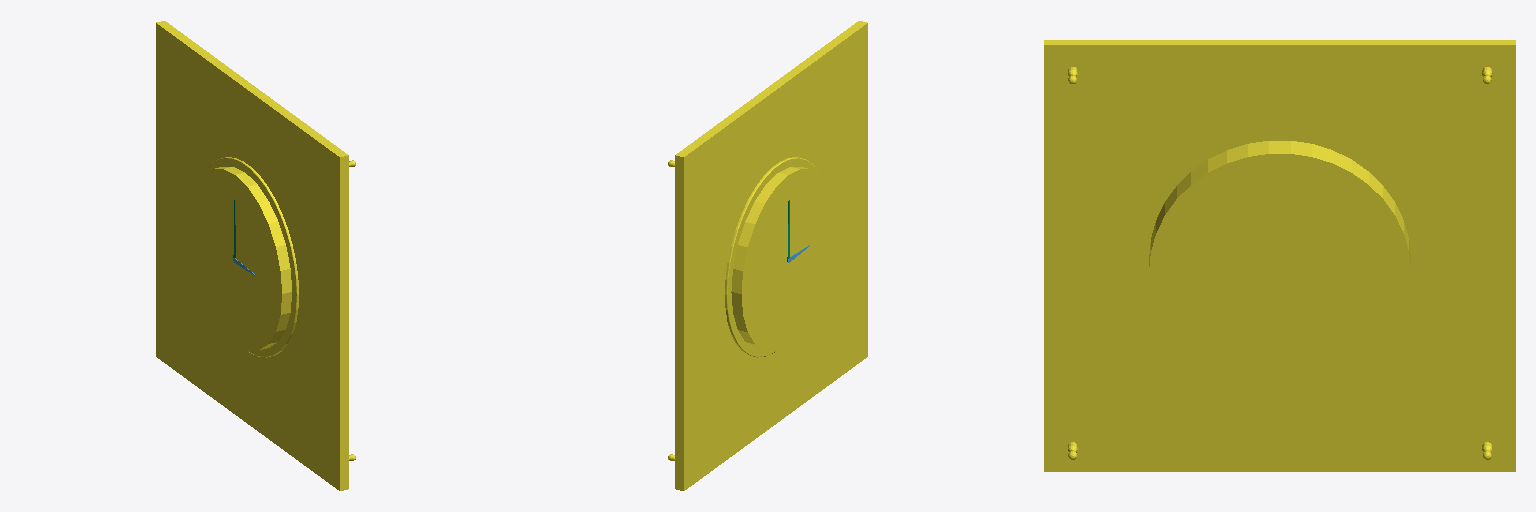
The robot description file, URDF, robot "partnet_422505904f773dddb441e189e5a85c02":
<?xml version="1.0" ?>
<robot name="partnet_422505904f773dddb441e189e5a85c02">
	<link name="base"/>
	<link name="link_0">
		<visual name="hand-13">
			<origin xyz="0.02716650000000001 0.0020920541846471685 0"/>
			<geometry>
				<mesh filename="textured_objs/original-2.obj"/>
			</geometry>
		</visual>
		<collision>
			<origin xyz="0.02716650000000001 0.0020920541846471685 0"/>
			<geometry>
				<mesh filename="textured_objs/original-2.obj"/>
			</geometry>
		</collision>
	</link>
	<joint name="joint_0" type="continuous">
		<origin xyz="-0.02716650000000001 -0.0020920541846471685 0"/>
		<axis xyz="0 0 1"/>
		<child link="link_0"/>
		<parent link="link_2"/>
	</joint>
	<link name="link_1">
		<visual name="hand-14">
			<origin xyz="0.02716650000000001 0.0020920541846471685 0"/>
			<geometry>
				<mesh filename="textured_objs/original-3.obj"/>
			</geometry>
		</visual>
		<collision>
			<origin xyz="0.02716650000000001 0.0020920541846471685 0"/>
			<geometry>
				<mesh filename="textured_objs/original-3.obj"/>
			</geometry>
		</collision>
	</link>
	<joint name="joint_1" type="continuous">
		<origin xyz="-0.02716650000000001 -0.0020920541846471685 0"/>
		<axis xyz="0 0 1"/>
		<child link="link_1"/>
		<parent link="link_2"/>
	</joint>
	<link name="link_2">
		<visual name="frame-12">
			<origin xyz="0 0 0"/>
			<geometry>
				<mesh filename="textured_objs/original-10.obj"/>
			</geometry>
		</visual>
		<visual name="surface-15">
			<origin xyz="0 0 0"/>
			<geometry>
				<mesh filename="textured_objs/original-11.obj"/>
			</geometry>
		</visual>
		<visual name="base_surface-18">
			<origin xyz="0 0 0"/>
			<geometry>
				<mesh filename="textured_objs/original-9.obj"/>
			</geometry>
		</visual>
		<visual name="base_support-19">
			<origin xyz="0 0 0"/>
			<geometry>
				<mesh filename="textured_objs/original-8.obj"/>
			</geometry>
		</visual>
		<visual name="base_support-20">
			<origin xyz="0 0 0"/>
			<geometry>
				<mesh filename="textured_objs/original-7.obj"/>
			</geometry>
		</visual>
		<visual name="base_support-21">
			<origin xyz="0 0 0"/>
			<geometry>
				<mesh filename="textured_objs/original-5.obj"/>
			</geometry>
		</visual>
		<visual name="base_support-22">
			<origin xyz="0 0 0"/>
			<geometry>
				<mesh filename="textured_objs/original-6.obj"/>
			</geometry>
		</visual>
		<collision>
			<origin xyz="0 0 0"/>
			<geometry>
				<mesh filename="textured_objs/original-10.obj"/>
			</geometry>
		</collision>
		<collision>
			<origin xyz="0 0 0"/>
			<geometry>
				<mesh filename="textured_objs/original-11.obj"/>
			</geometry>
		</collision>
		<collision>
			<origin xyz="0 0 0"/>
			<geometry>
				<mesh filename="textured_objs/original-9.obj"/>
			</geometry>
		</collision>
		<collision>
			<origin xyz="0 0 0"/>
			<geometry>
				<mesh filename="textured_objs/original-8.obj"/>
			</geometry>
		</collision>
		<collision>
			<origin xyz="0 0 0"/>
			<geometry>
				<mesh filename="textured_objs/original-7.obj"/>
			</geometry>
		</collision>
		<collision>
			<origin xyz="0 0 0"/>
			<geometry>
				<mesh filename="textured_objs/original-5.obj"/>
			</geometry>
		</collision>
		<collision>
			<origin xyz="0 0 0"/>
			<geometry>
				<mesh filename="textured_objs/original-6.obj"/>
			</geometry>
		</collision>
	</link>
	<joint name="joint_2" type="fixed">
		<origin rpy="1.570796326794897 0 -1.570796326794897" xyz="0 0 0"/>
		<child link="link_2"/>
		<parent link="base"/>
	</joint>
</robot>

--- Facts derived from the render (not from the file) ---
Views: 3 orthographic renders of the robot side by side, from view 1: azimuth 30°, elevation 25°; view 2: azimuth 150°, elevation 25°; view 3: azimuth 270°, elevation 25°.
Robot: partnet_422505904f773dddb441e189e5a85c02 — 4 links, 3 joints (2 continuous, 1 fixed); root link base; default pose: all joints at 0.
Links seen in each view (by area): view 1: link_2; view 2: link_2; view 3: link_2.
Link boxes in pixels (x1=…): link_2: x1=156, y1=21, x2=355, y2=490; link_2: x1=668, y1=21, x2=867, y2=490; link_2: x1=1044, y1=40, x2=1515, y2=471.
Bounding box of the posed robot: 0.2013 × 1.46 × 1.46 m (x, y, z).
Meshes: 9 distinct files referenced, 9 mesh visuals loaded (9 OBJ).
